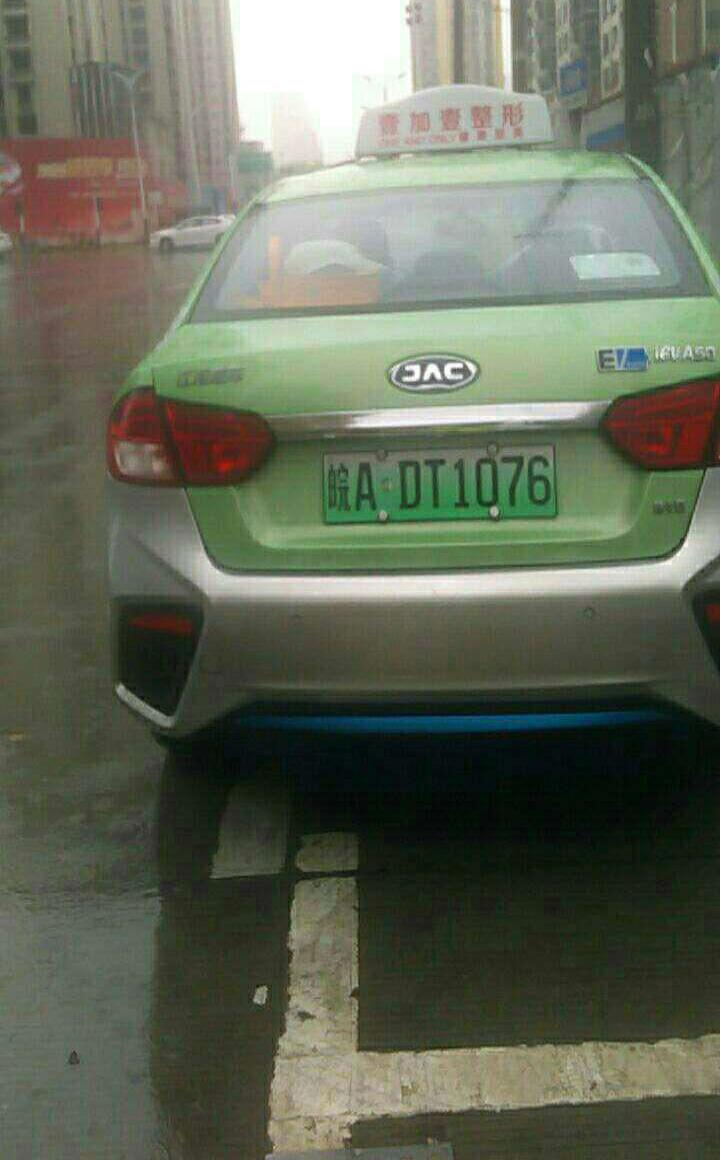car_id: (322, 443, 556, 523)
